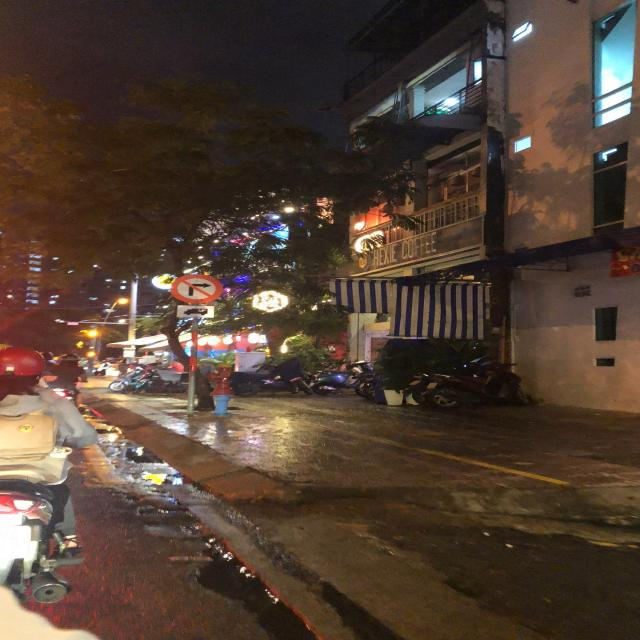Bien bao cam re phai: (164, 271, 227, 307)
